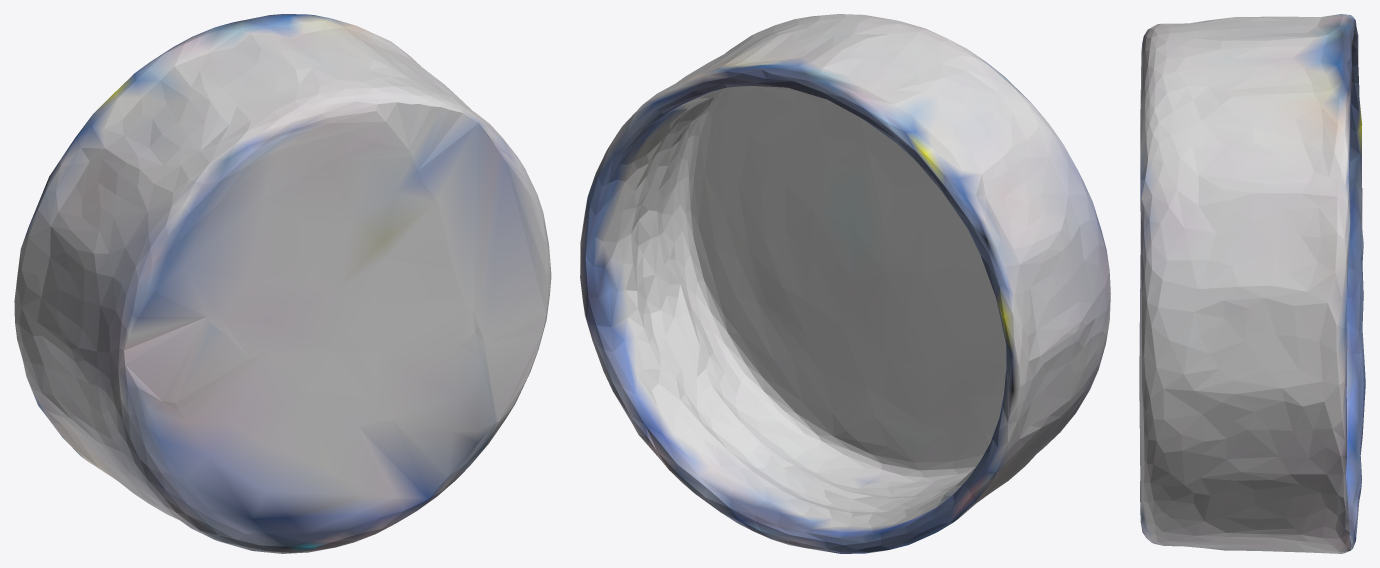
File: scan.obj
The picture shows the model from 3 angles, left to right: view 1: azimuth 30°, elevation 25°; view 2: azimuth 150°, elevation 25°; view 3: azimuth 270°, elevation 25°; orthographic projection. The views are drawn at different scales.
Visible parts, largest first — view 1: scan.ply; view 2: scan.ply; view 3: scan.ply.
Boxes of the visible parts, x1,y1,x2,y2 form: scan.ply: (14, 14, 551, 553); scan.ply: (580, 14, 1110, 553); scan.ply: (1139, 14, 1365, 553).
Size of the model in its own units: 0.044 by 0.0441 by 0.0185.
